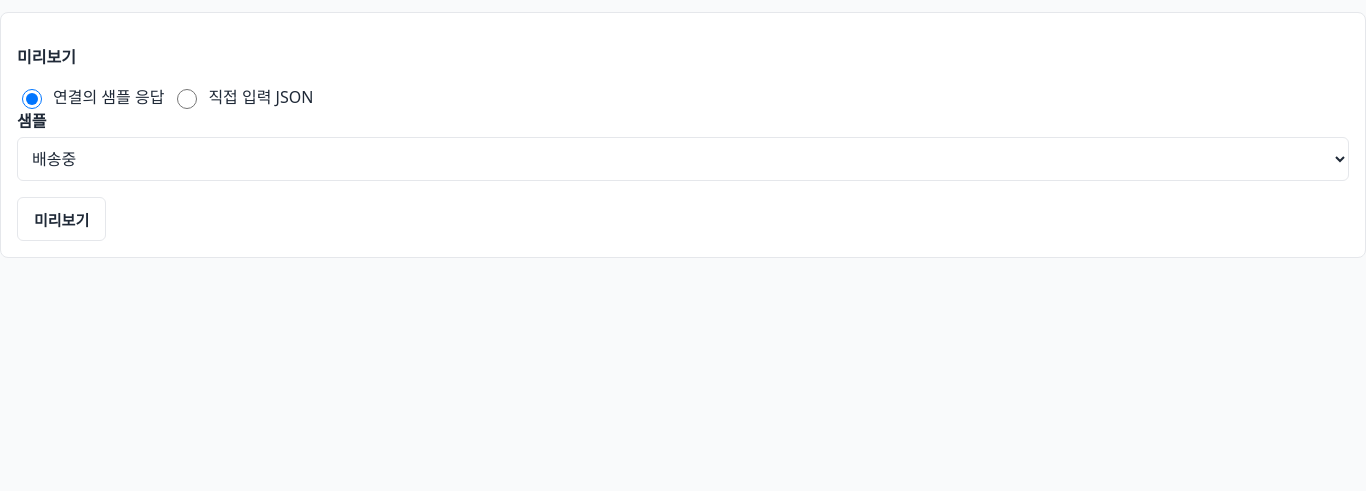
it: ApiConditionPreviewPanel — 치환 미리보기 › 일치한 조건의 nextNodeId 노드를 조회해 첫 TEXT 아웃풋에 {api.*} 치환을 적용해 보여준다
expect the dropdown labelled "샘플" is shown: met, box [17,137,1349,181]
What coordinates should you click on to do the following:
click the button "미리보기"
I would click on:
 (62, 219)
Its box is [17,197,106,241].
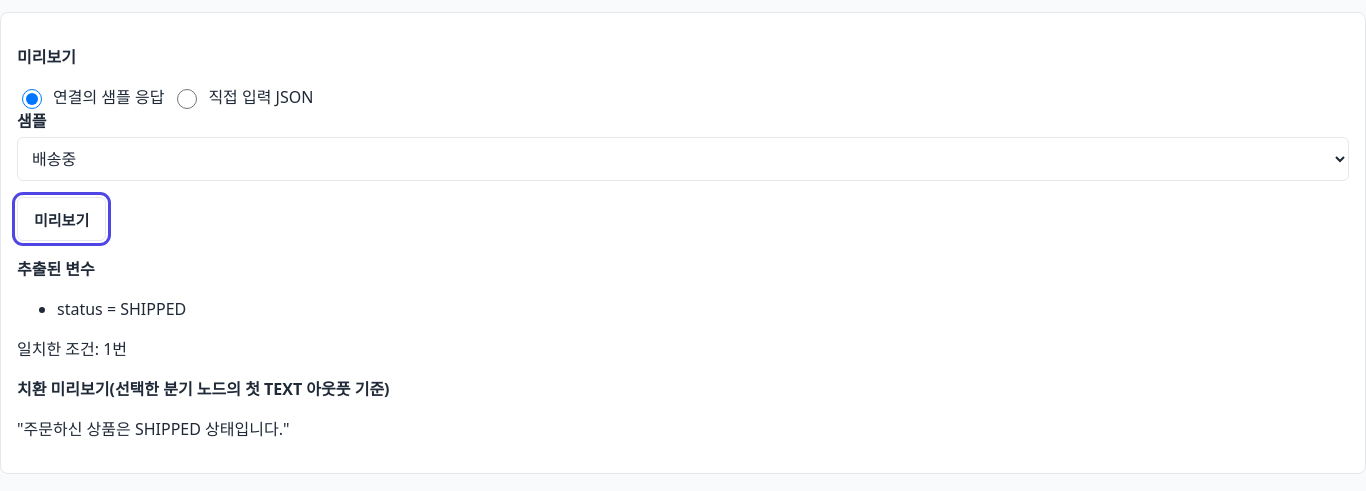
expect the text "\"주문하신 상품은 SHIPPED 상태입니다.\"" is shown: met, box [17,418,290,440]
